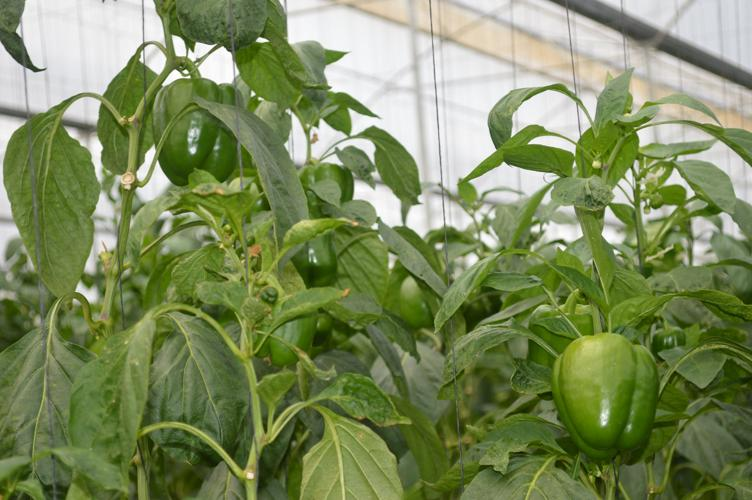BellPepper: (548, 334, 659, 463), (152, 78, 238, 185), (254, 295, 315, 365), (293, 232, 333, 285)
